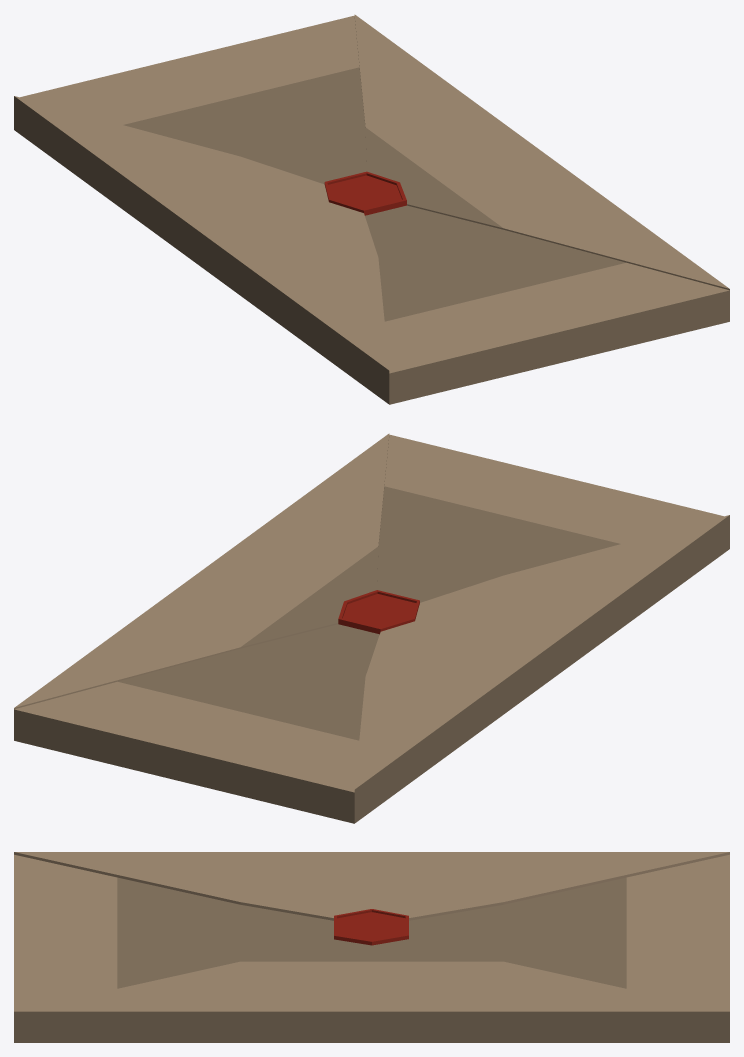
Rendered from Note.fbx.
3 views of the same model, one above another, from view 1: azimuth 30°, elevation 25°; view 2: azimuth 150°, elevation 25°; view 3: azimuth 270°, elevation 25° (orthographic). The views are drawn at different scales.
Visible parts, largest first — view 1: Note; view 2: Note; view 3: Note.
Part boxes in pixels (box(x1,y1,x2,y2)): Note: box(14, 14, 729, 404); Note: box(14, 433, 729, 823); Note: box(14, 852, 729, 1042).
Bounding box in the file's own units: 51.35 × 5.28 × 98.06.
